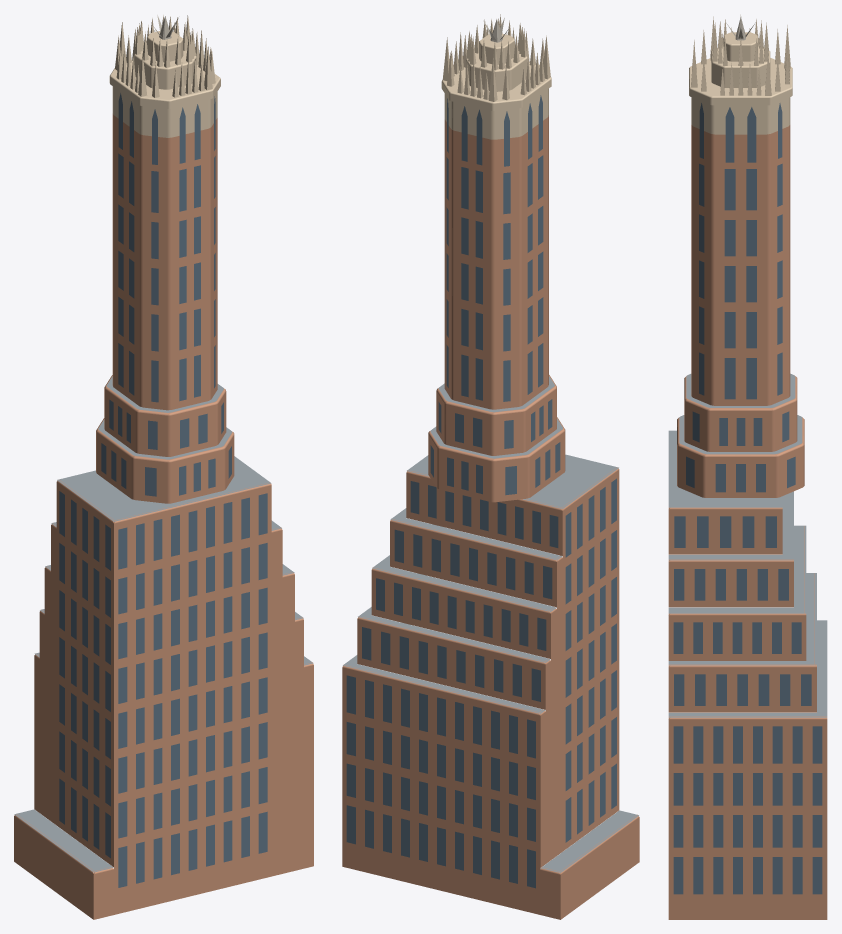
Rendered from nyc-570-lexington.glb.
3 renders of one model, left to right at view 1: azimuth 30°, elevation 25°; view 2: azimuth 150°, elevation 25°; view 3: azimuth 270°, elevation 25°, orthographic.
Parts seen in each view (by area): view 1: General Electric Building; view 2: General Electric Building; view 3: General Electric Building.
Boxes of the visible parts, x1,y1,x2,y2 form: General Electric Building: [14, 15, 313, 919]; General Electric Building: [342, 14, 639, 919]; General Electric Building: [668, 14, 827, 919].
Bounding box in the file's own units: 53.35 × 197 × 33.5.
